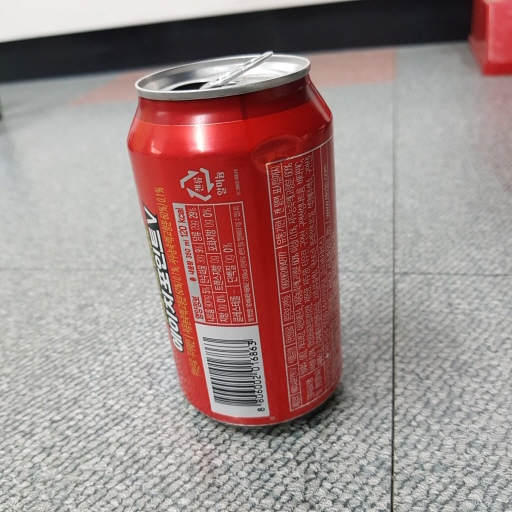Metal_0: (128, 50, 351, 428)
